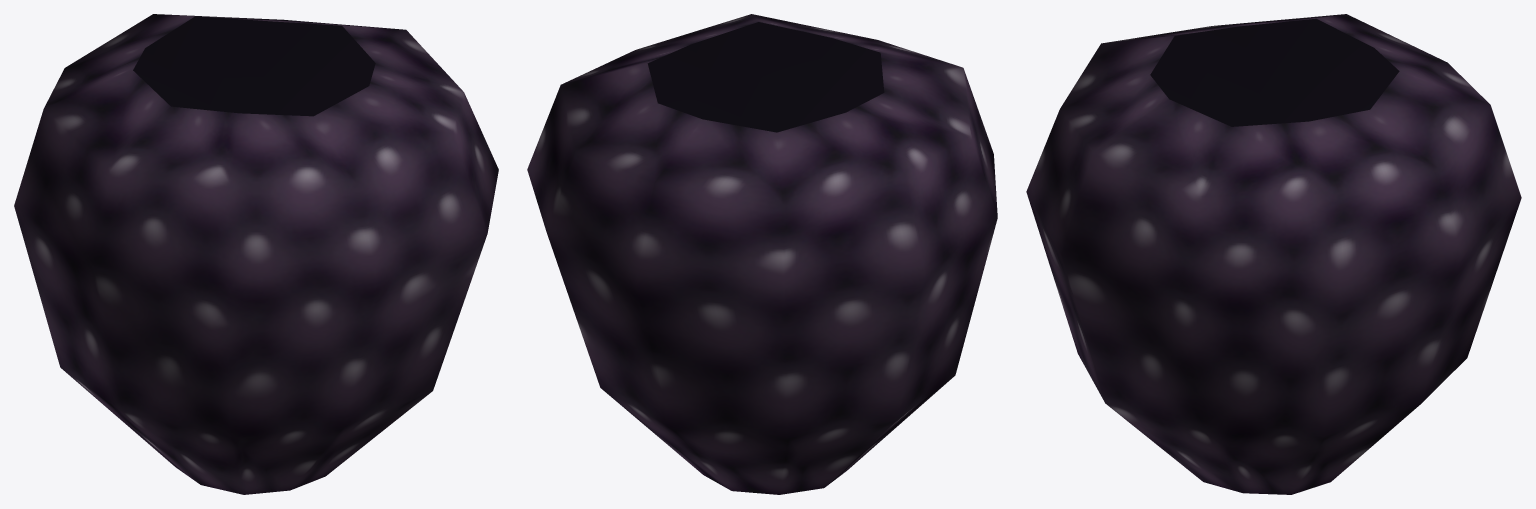
Rendered from Blackberry.fbx.
3 renders of one model, left to right at view 1: azimuth 30°, elevation 25°; view 2: azimuth 150°, elevation 25°; view 3: azimuth 270°, elevation 25°, orthographic.
Parts seen in each view (by area): view 1: Blackberry; view 2: Blackberry; view 3: Blackberry.
Boxes of the visible parts, <box> form: Blackberry: <box>14,14,498,494</box>; Blackberry: <box>527,14,997,494</box>; Blackberry: <box>1026,14,1521,494</box>.
Size of the model in its own units: 17.45 by 17.12 by 18.21.
